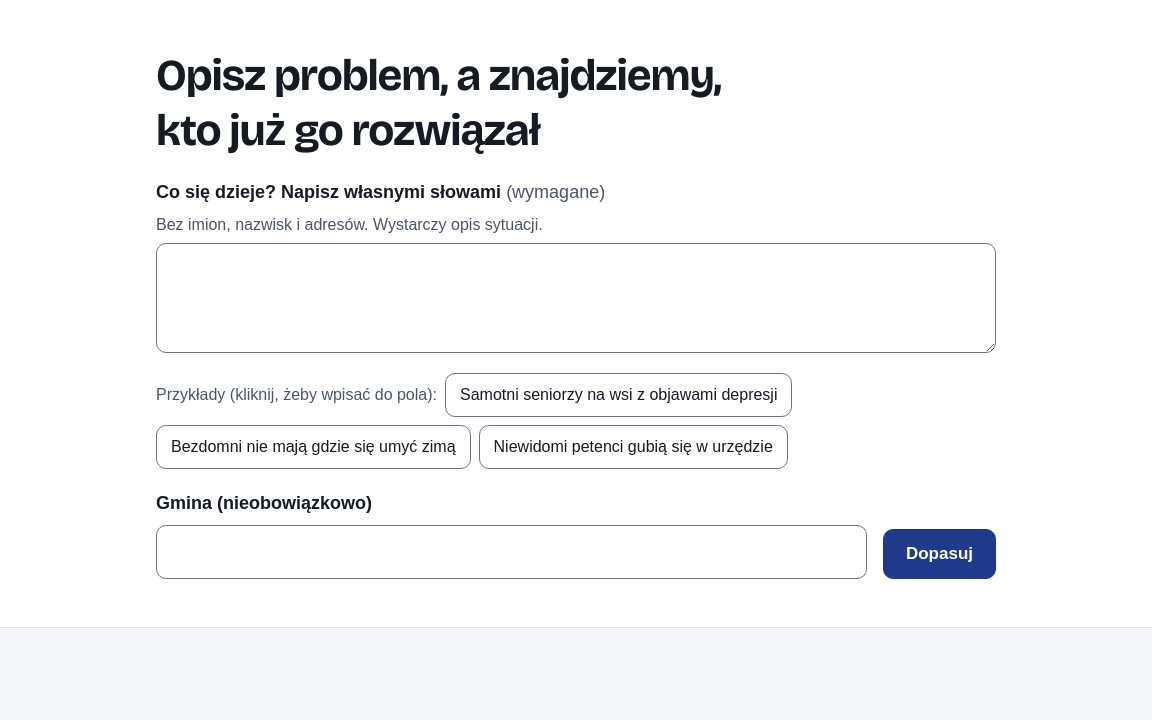
Scenario: MatchForm › an example fills the field and focuses it without starting the search
Click the button "Samotni seniorzy na wsi z objawami depresji" at coordinates (619, 395), box [445,373,792,417]
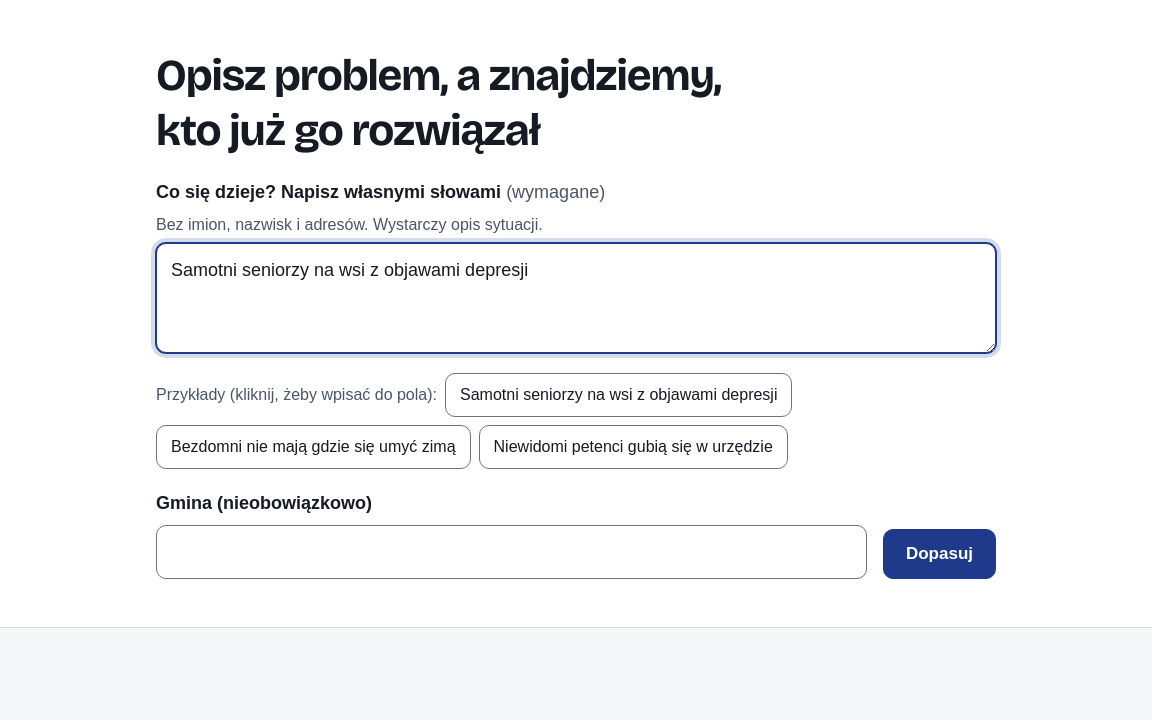
Now the text box labelled "Co się dzieje? Napisz własnymi słowami (wymagane)" holds "Samotni seniorzy na wsi z objawami depresji", box [156,243,996,353]
